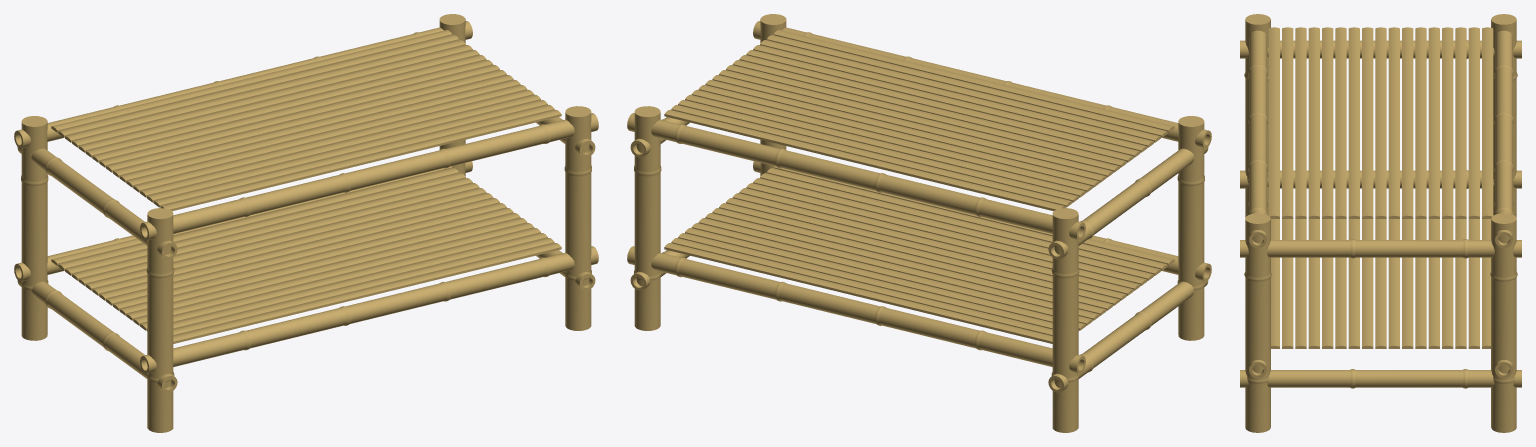
File: ban_tre.glb
3 views of the same model, side by side, from view 1: azimuth 30°, elevation 25°; view 2: azimuth 150°, elevation 25°; view 3: azimuth 270°, elevation 25° (orthographic). The views are drawn at different scales.
Visible parts, largest first — view 1: ban_tre; view 2: ban_tre; view 3: ban_tre.
Boxes of the visible parts, x1,y1,x2,y2 form: ban_tre: (14,14,598,432); ban_tre: (627,14,1211,432); ban_tre: (1240,14,1521,432).
Bounding box in the file's own units: 0.99 × 0.45 × 0.55.
